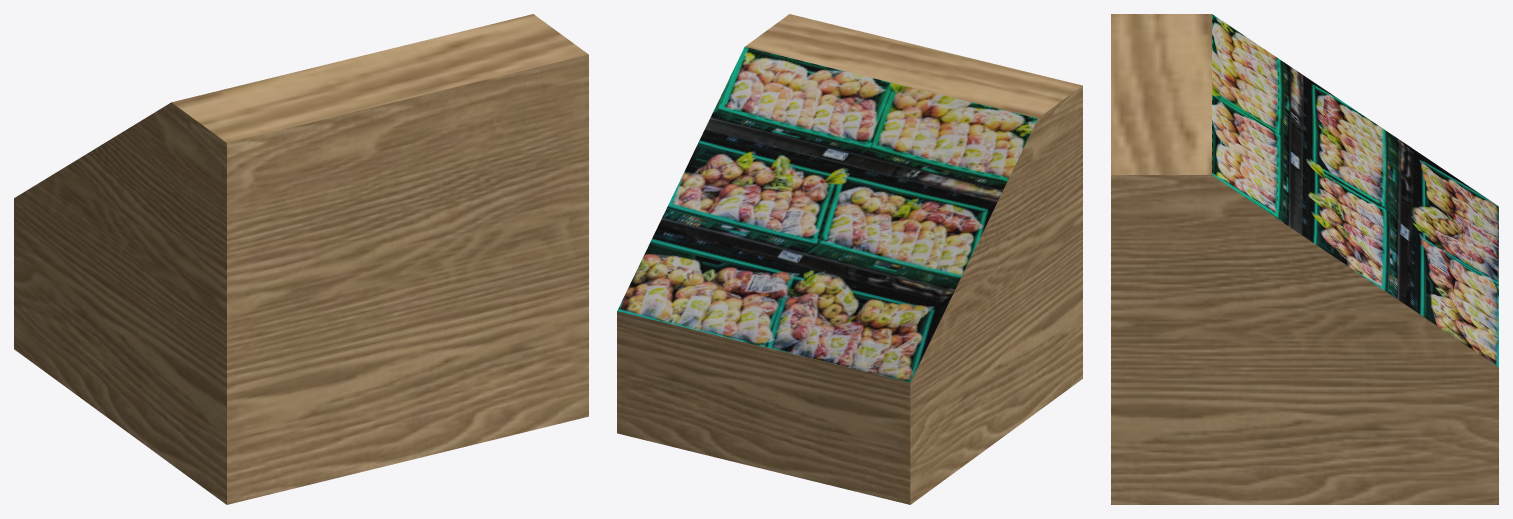
File: small_apple_stand.glb
3 views of the same model, side by side, from view 1: azimuth 30°, elevation 25°; view 2: azimuth 150°, elevation 25°; view 3: azimuth 270°, elevation 25° (orthographic). The views are drawn at different scales.
Visible parts, largest first — view 1: Librero.020; view 2: Librero.020; view 3: Librero.020.
Part boxes in pixels (x1,y1,x2,y2): Librero.020: (14,14,588,504); Librero.020: (617,14,1082,504); Librero.020: (1111,14,1498,504).
Size of the model in its own units: 1.8 by 1.72 by 1.84.
2 materials, 2 textured.
